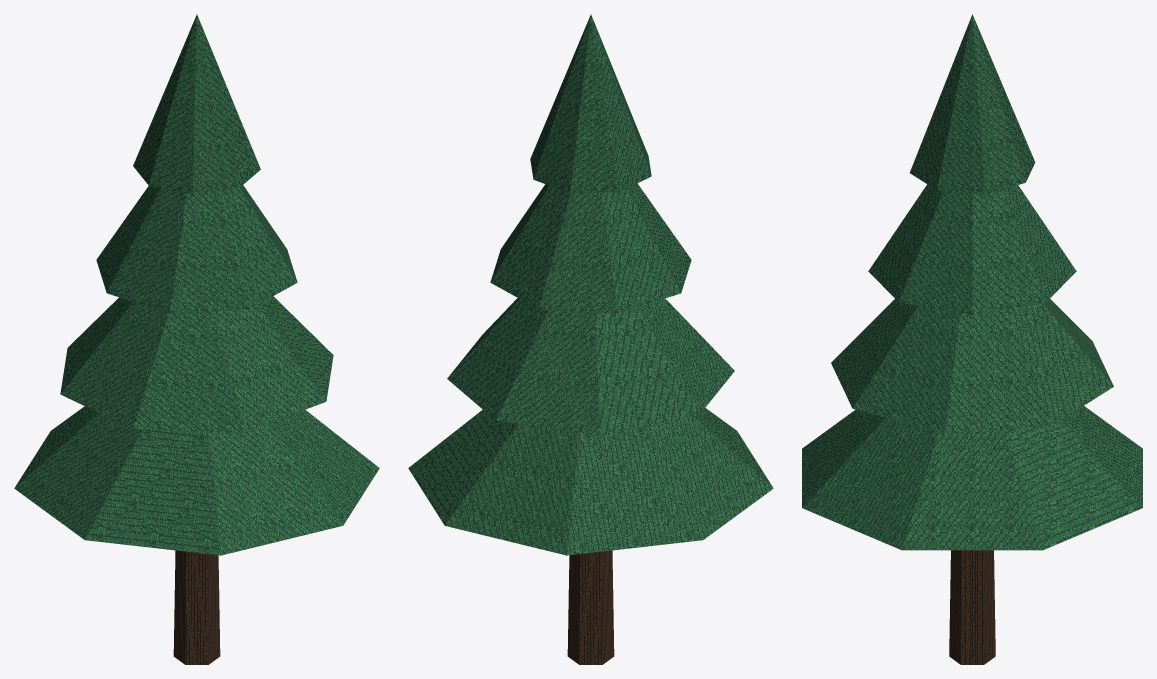
Rendered from tree_pine.glb.
3 renders of one model, left to right at view 1: azimuth 30°, elevation 25°; view 2: azimuth 150°, elevation 25°; view 3: azimuth 270°, elevation 25°, orthographic.
Parts seen in each view (by area): view 1: Body.004; view 2: Body.004; view 3: Body.004.
Boxes of the visible parts, x1,y1,x2,y2 form: Body.004: [14, 14, 379, 664]; Body.004: [408, 14, 773, 664]; Body.004: [802, 14, 1142, 664].
Bounding box in the file's own units: 3.51 × 7.3 × 3.51.
Materials: 2 (2 with a texture image).
